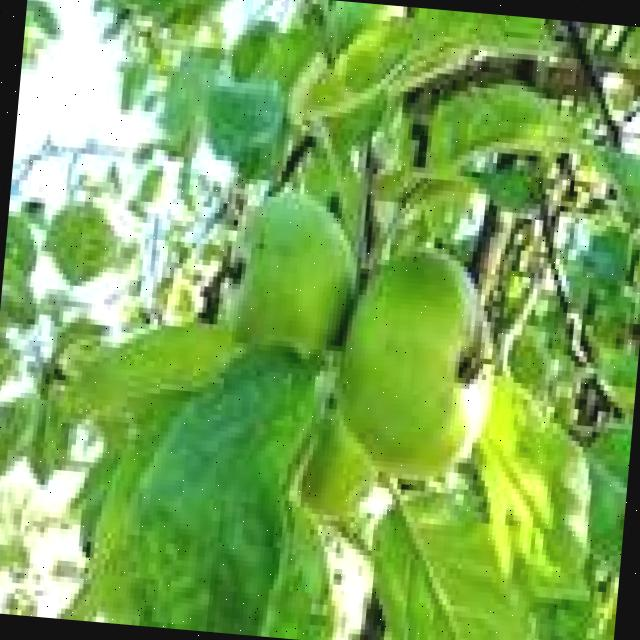Unripe: (330, 238, 506, 483)
